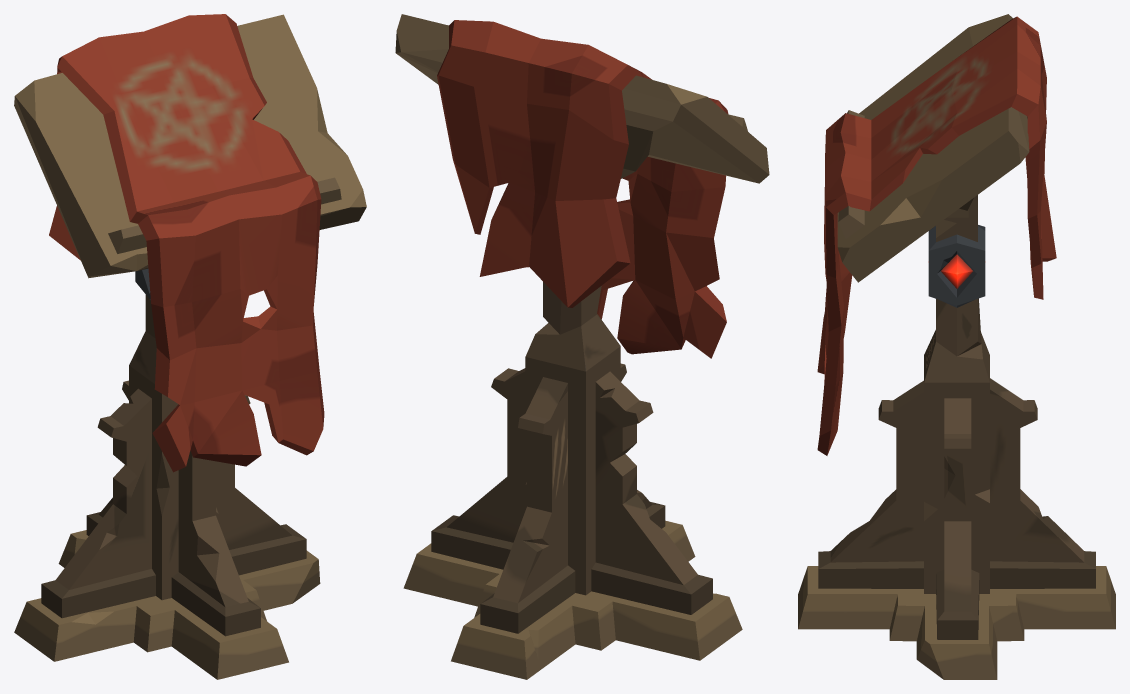
The model's file is crypt_lectern.gltf.
3 views of the same model, side by side, from view 1: azimuth 30°, elevation 25°; view 2: azimuth 150°, elevation 25°; view 3: azimuth 270°, elevation 25° (orthographic). The views are drawn at different scales.
Parts seen in each view (by area): view 1: crypt_lectern; view 2: crypt_lectern; view 3: crypt_lectern.
Part boxes in pixels (x1,y1,x2,y2): crypt_lectern: (14, 14, 366, 679); crypt_lectern: (395, 14, 769, 679); crypt_lectern: (798, 14, 1115, 679).
Bounding box in the file's own units: 0.7884 × 1.52 × 0.7754.
1 material, 1 textured.
